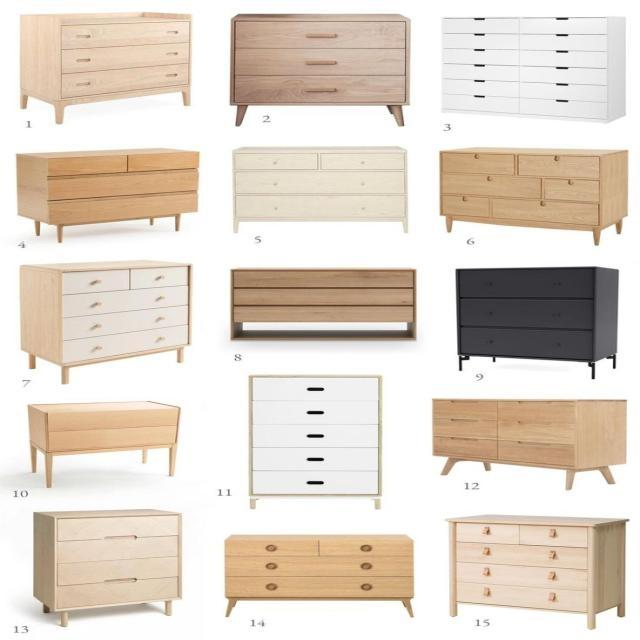obstacle: (18, 260, 192, 384), (444, 514, 629, 629), (229, 12, 410, 126), (440, 16, 626, 123), (18, 11, 192, 124), (438, 146, 628, 245), (454, 266, 618, 380), (248, 374, 382, 509), (431, 398, 627, 490), (31, 508, 182, 626), (15, 147, 199, 242), (224, 534, 414, 618), (230, 146, 408, 234), (229, 266, 416, 341), (26, 400, 180, 488)
